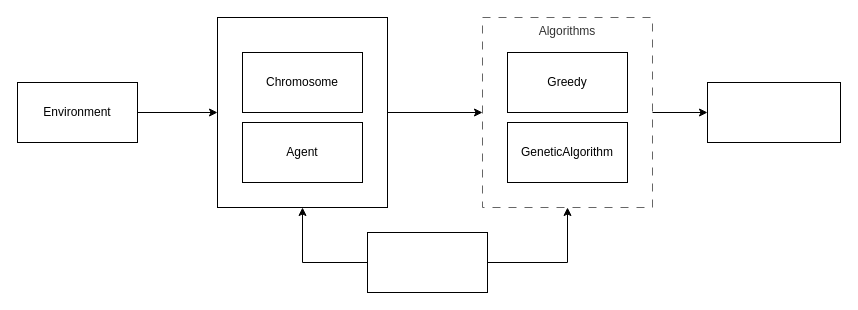
This 858x310 diagram has some shape labels left out. The box of each missing label's shape, as (x1, y1, x2, y2) in pixels:
FinalEvaluationMetrics: (706, 82, 840, 142)
Key Manager: (366, 232, 488, 292)
PopulationCreation: (216, 16, 388, 208)
